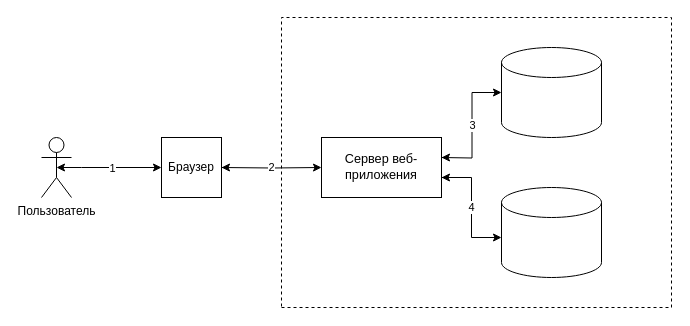
Some shapes in this 690 by 326 pixel diagram are drawn without their labels. The shapes that lost their labels are listed below. From the top down, each one's centre as x and y in pixels, then its label:
pixel 551 92: БД контента
pixel 551 232: БД заявок пользователей
